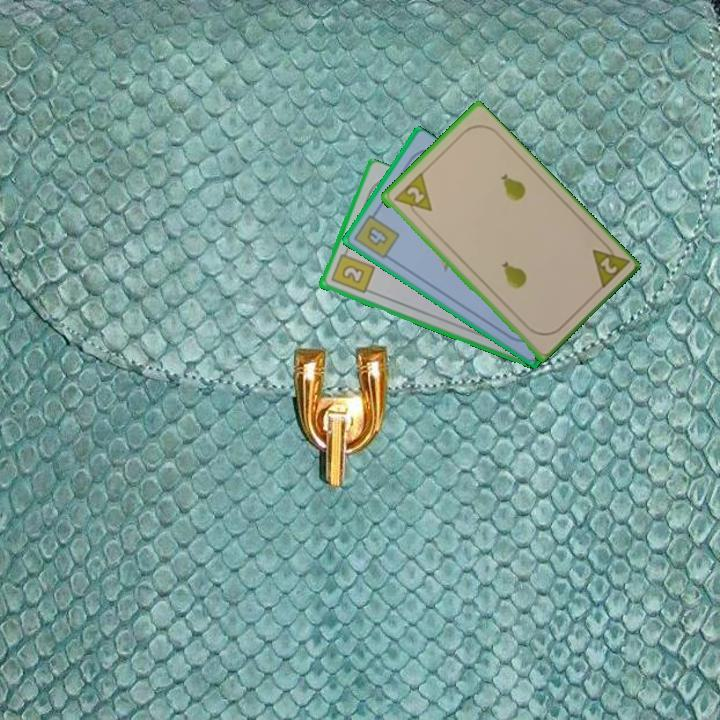2b: (327, 245, 377, 296)
2p: (588, 236, 631, 293), (403, 183, 427, 206)
4b: (350, 207, 402, 262)
